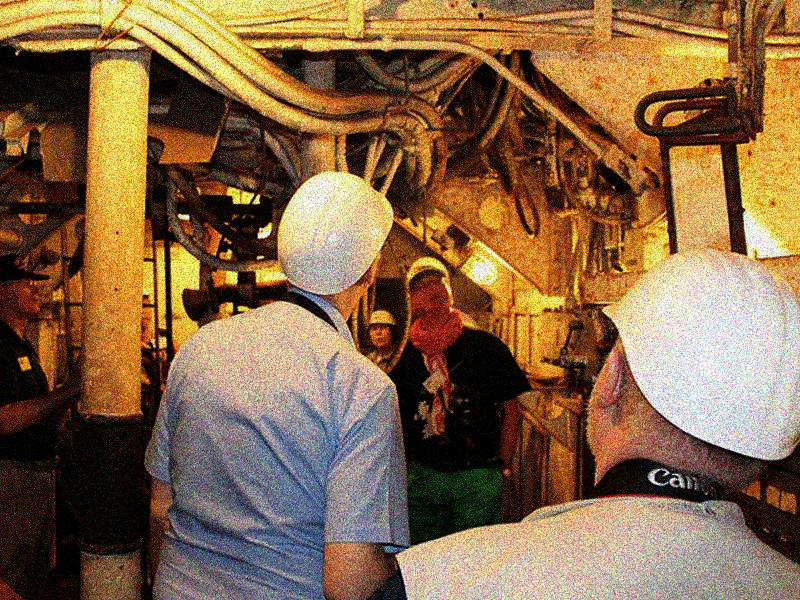helmet: (576, 247, 800, 485), (274, 168, 393, 306), (405, 254, 459, 316), (365, 310, 401, 350)
